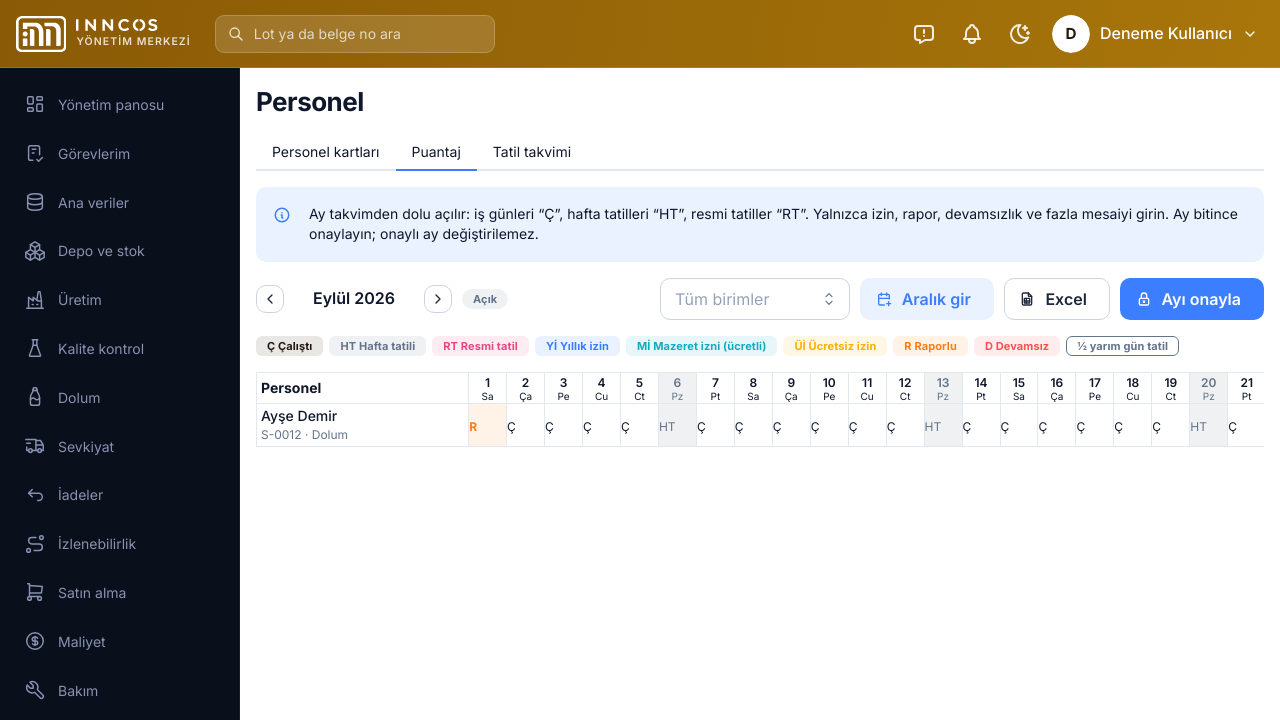
puantaj tablosu › ayı onaylar; bitmemiş ay onaylanamaz
Check: the table with test id "attendance" is shown, box left=256, top=372, right=1264, bottom=447
Click the button "Ayı onayla": [1192, 299] box left=1120, top=278, right=1264, bottom=320
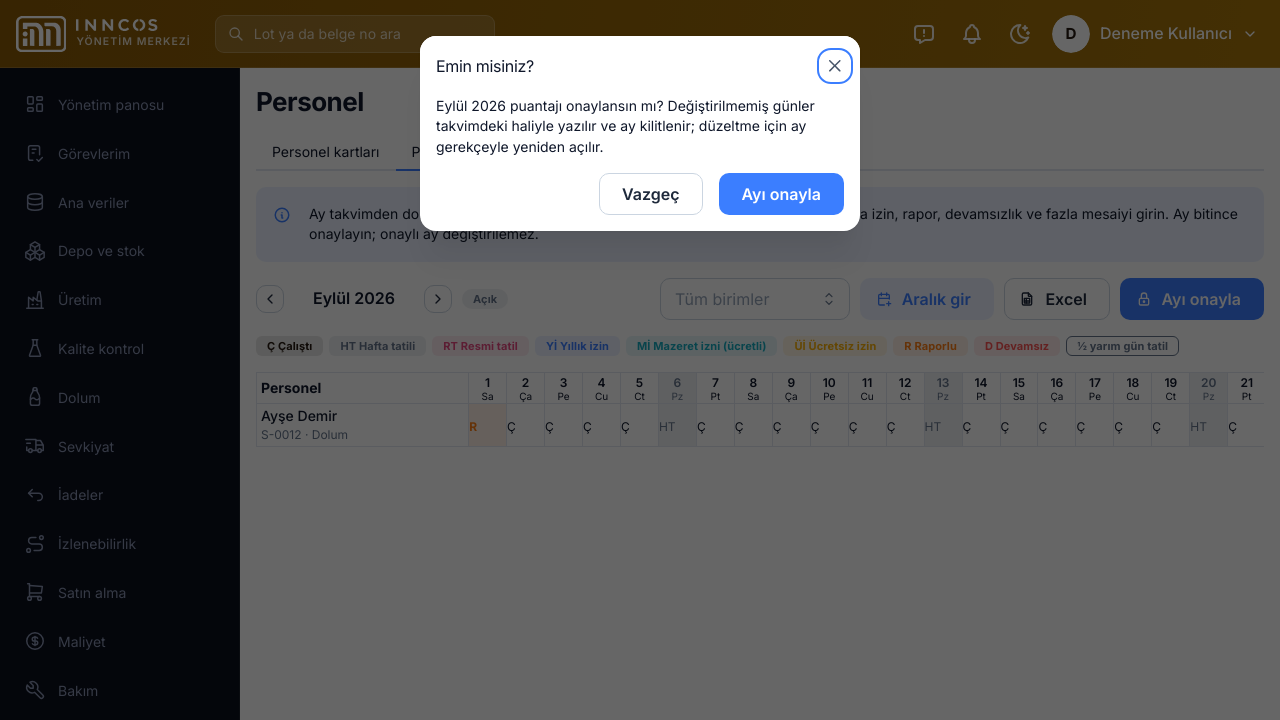
Check: the text "Eylül 2026 puantajı onaylansın mı?" is shown, box left=436, top=97, right=815, bottom=155
Click the button "Ayı onayla": [781, 194] box left=718, top=173, right=844, bottom=215
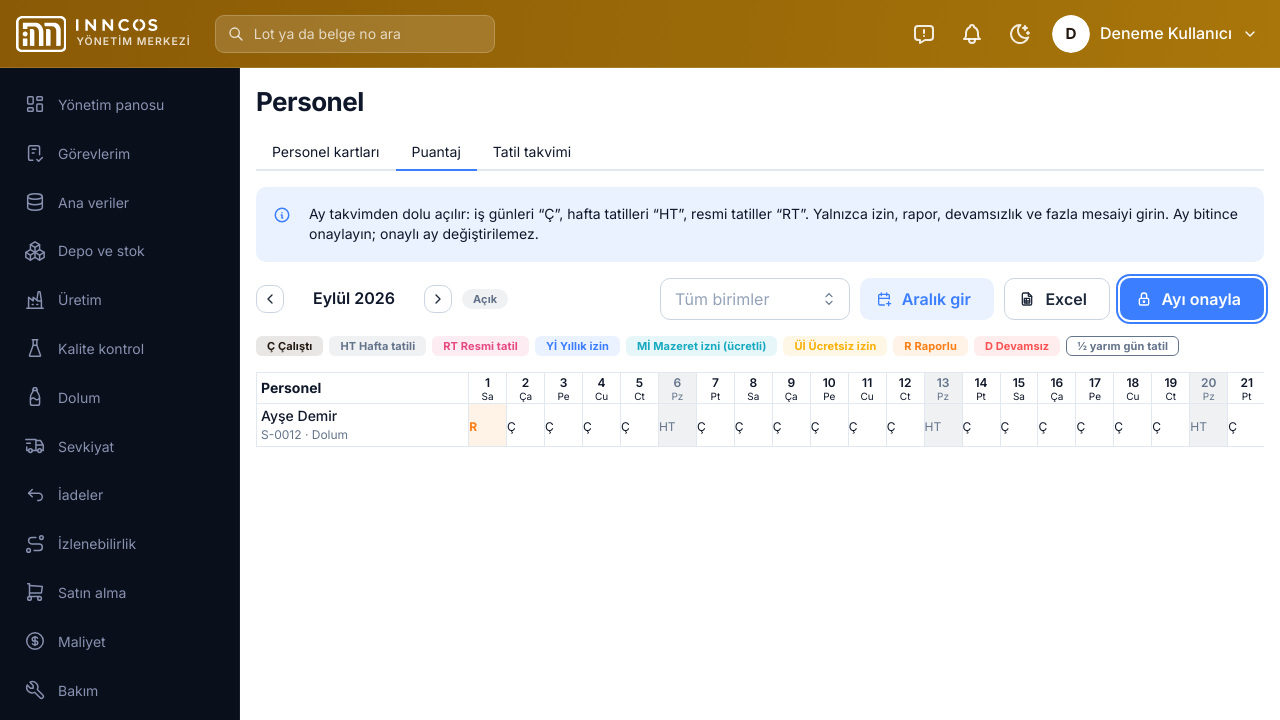
Click the button named "Sonraki ay": [438, 299] box left=424, top=285, right=452, bottom=313
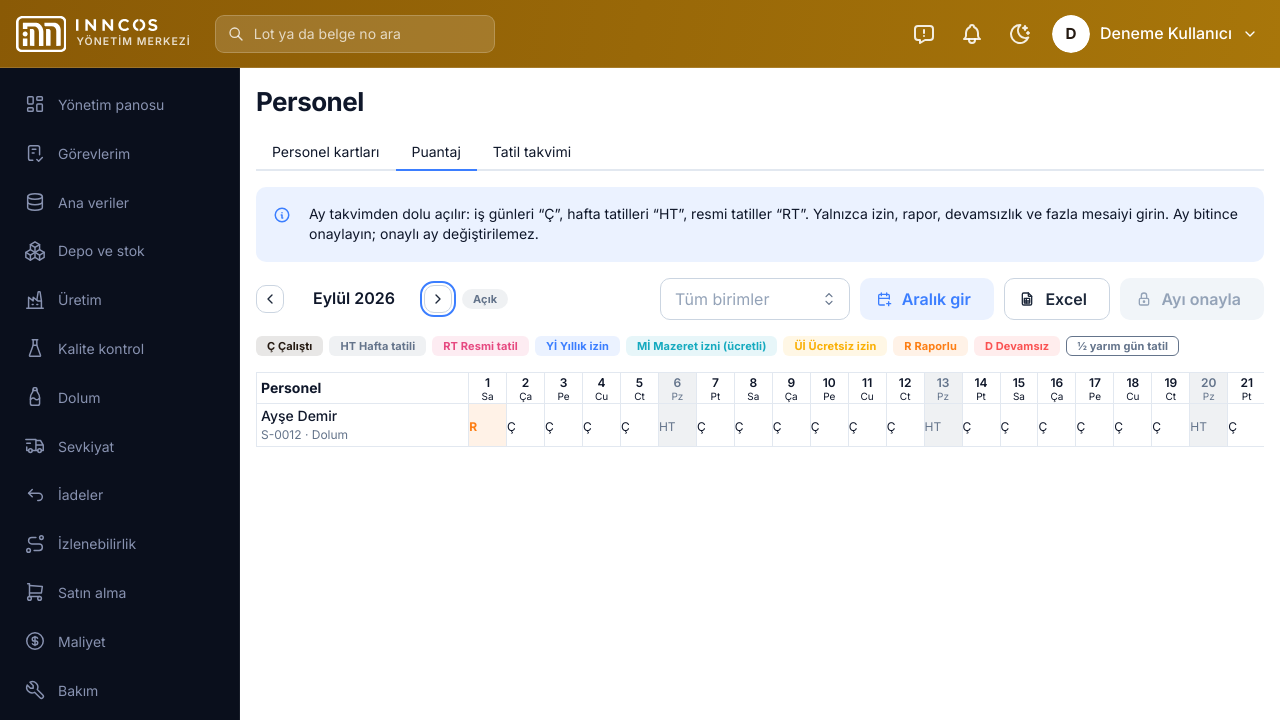
Check: the button "Ayı onayla" is disabled, box left=1120, top=278, right=1264, bottom=320
